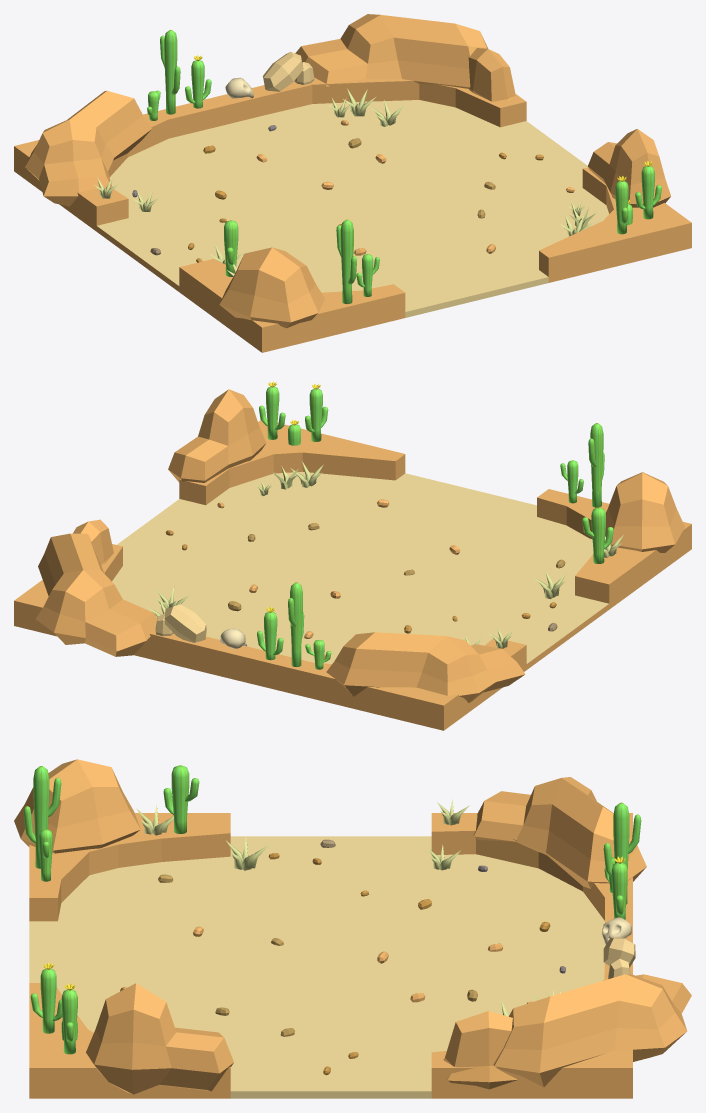
Rendered from desert level set - 3 Way (4).fbx.
3 renders of one model, top to bottom at view 1: azimuth 30°, elevation 25°; view 2: azimuth 150°, elevation 25°; view 3: azimuth 270°, elevation 25°, orthographic. The views are drawn at different scales.
Parts seen in each view (by area): view 1: land_platform_001, Cube_008, Cube_004, Cube_005, Cube_009, Cube_006, Cube_007, CACTUS_002, CACTUS_008, CACTUS_001, CACTUS_007, CACTUS_006 (+2 smaller); view 2: land_platform_001, Cube_004, Cube_008, Cube_009, Cube_005, Cube_007, CACTUS_008, CACTUS_002, CACTUS_006, Cube_006, CACTUS_001, CACTUS_005 (+2 smaller); view 3: land_platform_001, Cube_008, Cube_009, Cube_004, Cube_005, Cube_006, CACTUS_002, CACTUS_008, CACTUS_006, CACTUS_005, Cube_007, CACTUS_001 (+4 smaller).
Part boxes in pixels (left/top/right/bottom): land_platform_001: left=14, top=77, right=691, bottom=352; Cube_008: left=295, top=14, right=488, bottom=88; Cube_004: left=25, top=90, right=151, bottom=206; Cube_005: left=219, top=247, right=324, bottom=328; Cube_009: left=587, top=129, right=670, bottom=207; Cube_006: left=468, top=48, right=515, bottom=101; Cube_007: left=262, top=52, right=314, bottom=91; CACTUS_002: left=336, top=219, right=356, bottom=304; CACTUS_008: left=160, top=30, right=180, bottom=114; CACTUS_001: left=635, top=161, right=661, bottom=219; CACTUS_007: left=185, top=55, right=211, bottom=108; CACTUS_006: left=224, top=220, right=238, bottom=276; land_platform_001: left=14, top=420, right=691, bottom=730; Cube_004: left=326, top=632, right=525, bottom=702; Cube_008: left=36, top=533, right=157, bottom=656; Cube_009: left=168, top=389, right=266, bottom=482; Cube_005: left=605, top=472, right=684, bottom=552; Cube_007: left=155, top=604, right=206, bottom=642; CACTUS_008: left=288, top=582, right=304, bottom=666; CACTUS_002: left=588, top=423, right=604, bottom=507; CACTUS_006: left=582, top=507, right=613, bottom=563; Cube_006: left=73, top=519, right=113, bottom=566; CACTUS_001: left=259, top=381, right=285, bottom=439; CACTUS_005: left=305, top=383, right=328, bottom=441; land_platform_001: left=29, top=813, right=632, bottom=1098; Cube_008: left=493, top=974, right=691, bottom=1087; Cube_009: left=86, top=983, right=233, bottom=1094; Cube_004: left=473, top=777, right=646, bottom=888; Cube_005: left=14, top=759, right=140, bottom=853; Cube_006: left=443, top=1011, right=517, bottom=1089; CACTUS_002: left=23, top=766, right=61, bottom=868; CACTUS_008: left=603, top=802, right=641, bottom=904; CACTUS_006: left=163, top=765, right=199, bottom=833; CACTUS_005: left=30, top=962, right=62, bottom=1033; Cube_007: left=603, top=937, right=635, bottom=978; CACTUS_001: left=61, top=983, right=77, bottom=1054.
Bounding box in the file's own units: 16.66 × 3.7 × 17.05.
